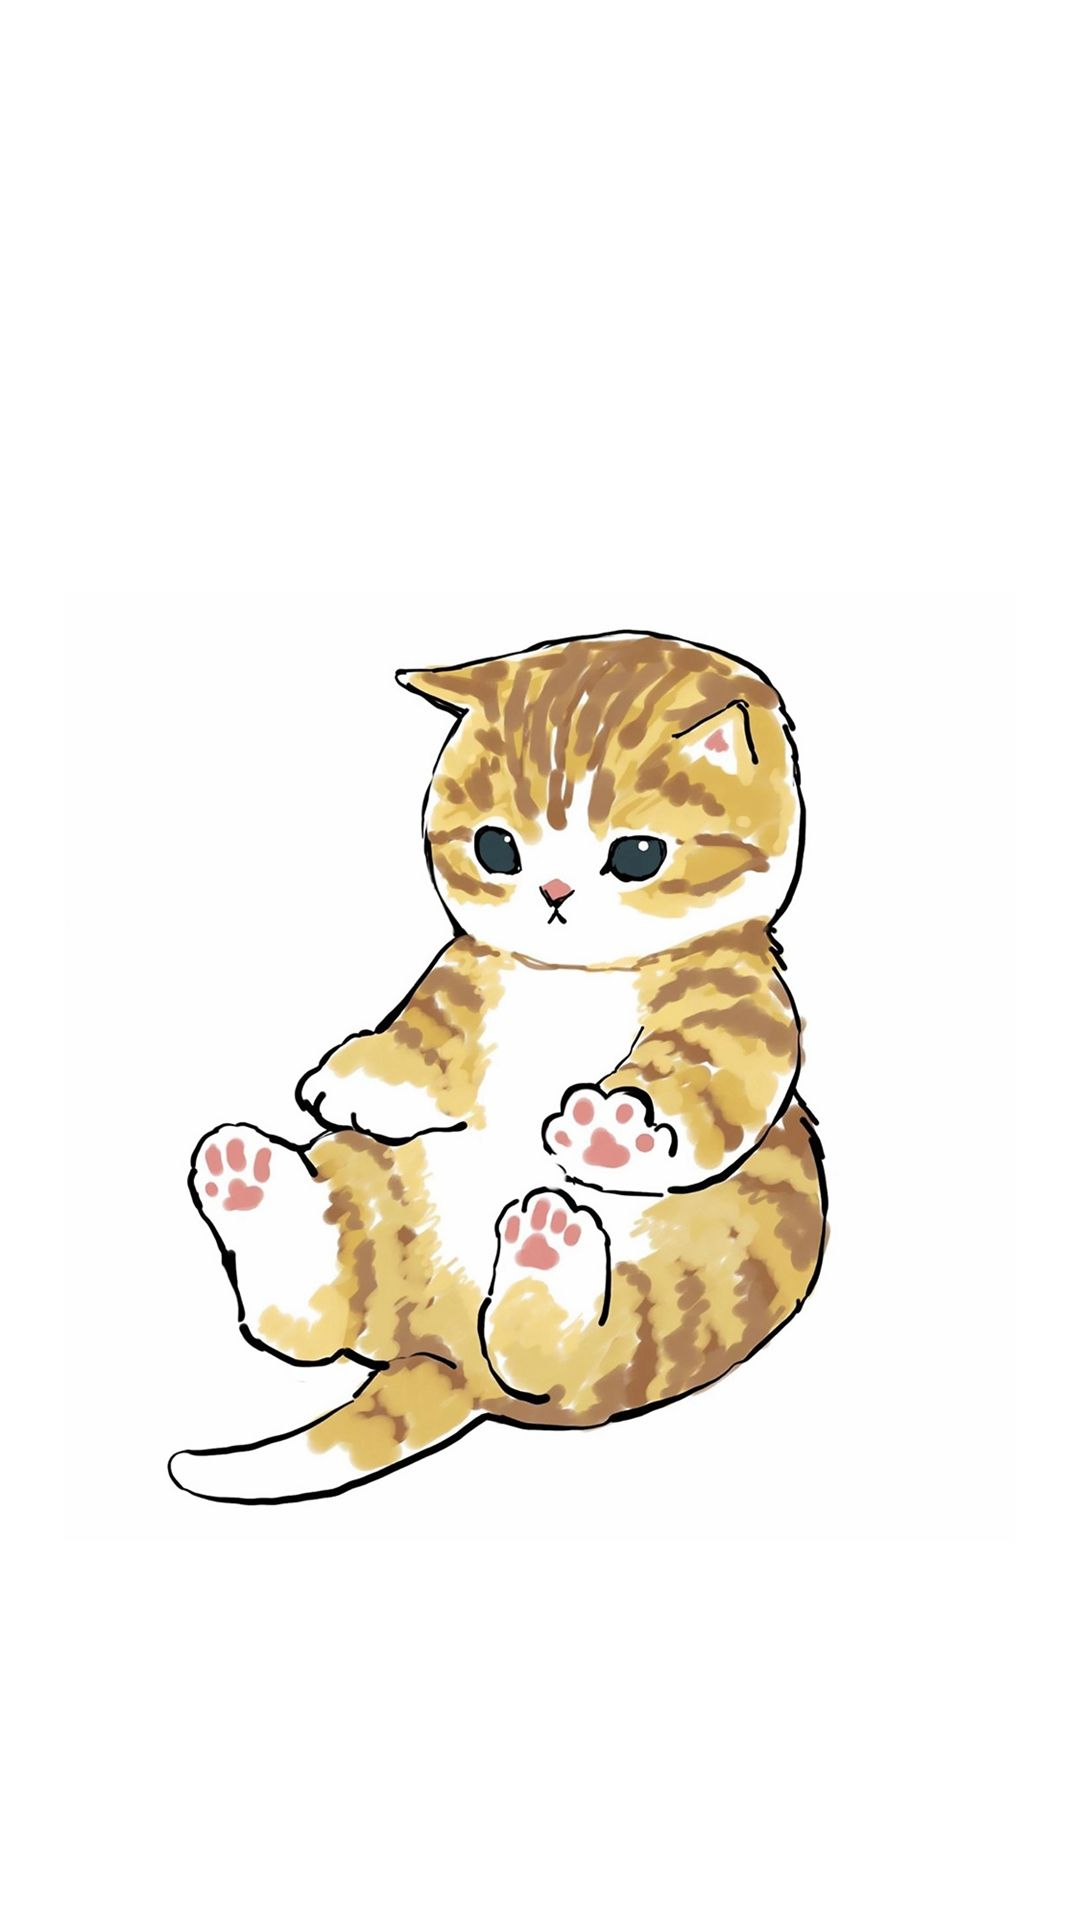cat: (157, 603, 849, 1510)
